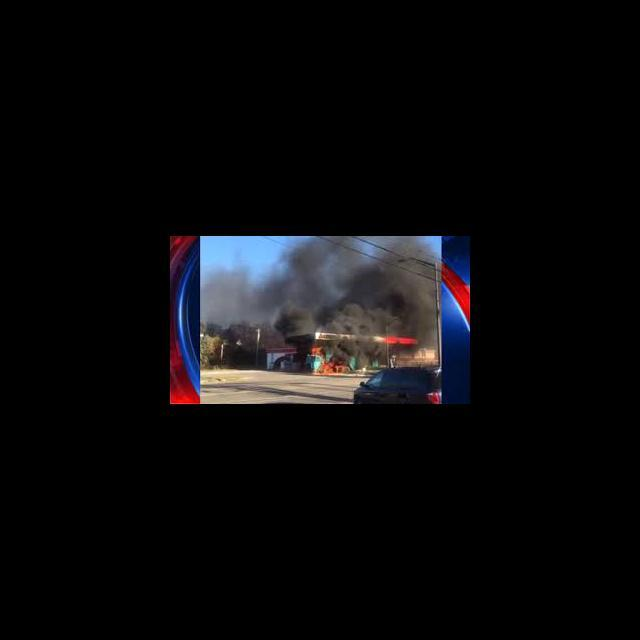Fire: (320, 356, 352, 376)
Smoke: (202, 240, 438, 334)
